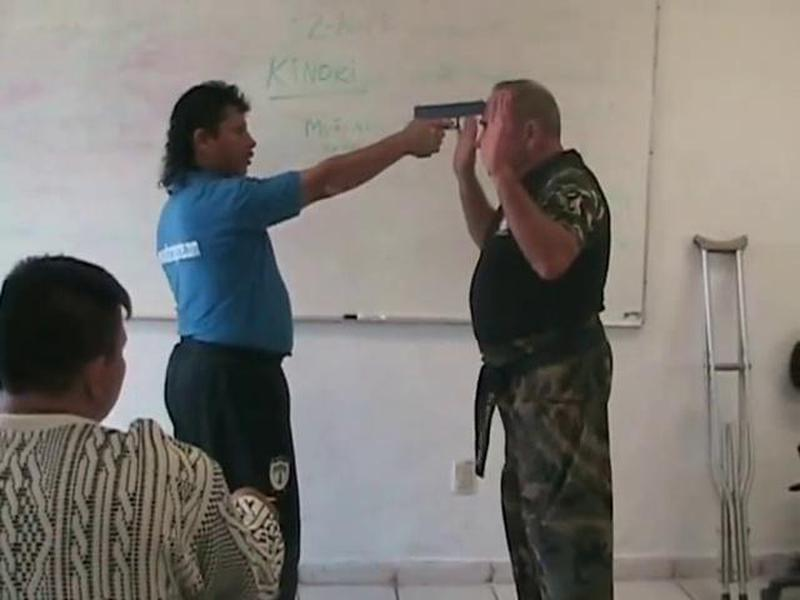Pistola: (391, 93, 499, 169)
